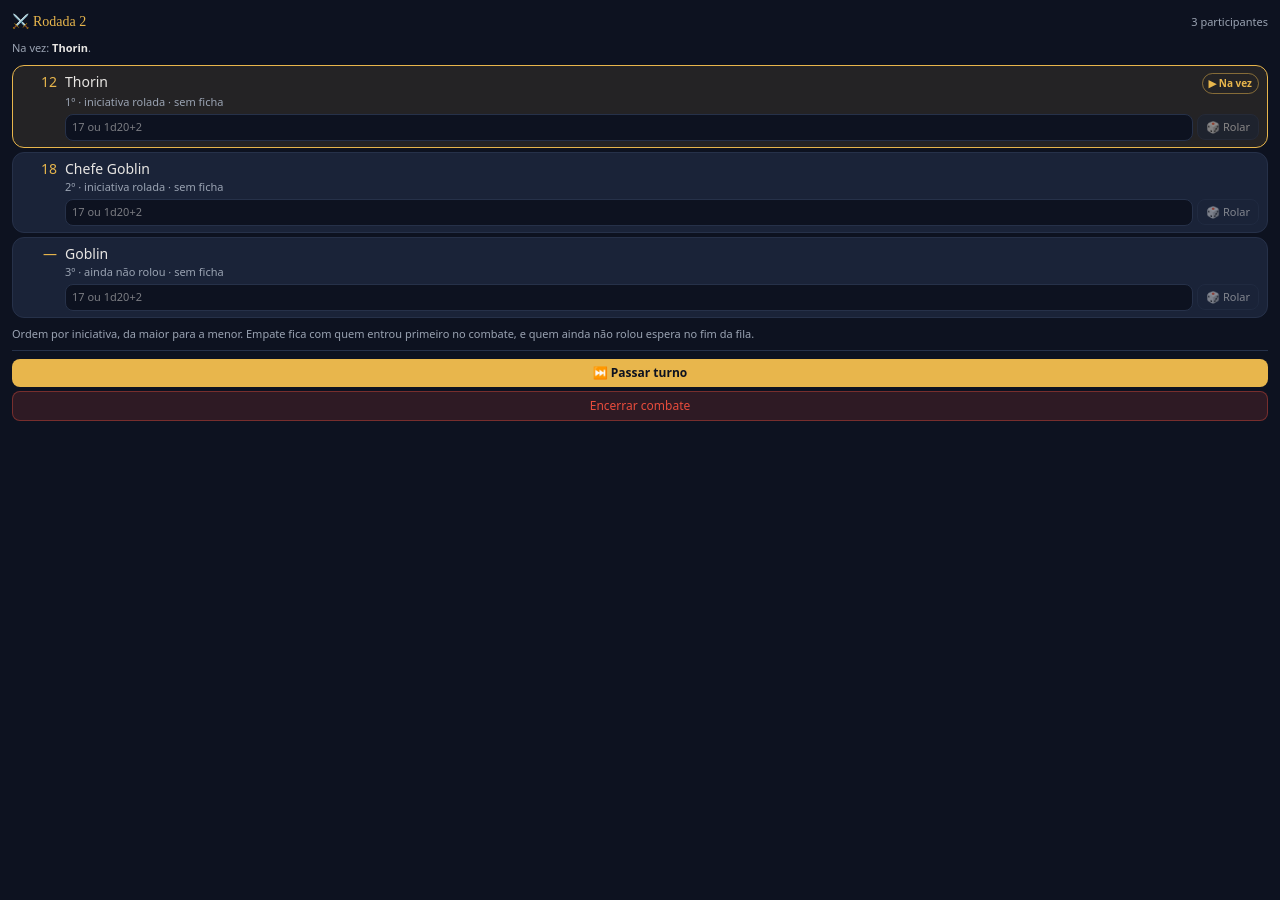
Test case: PainelIniciativa — turno e encerramento são do mestre › cancelar a confirmação não encerra nada
This screenshot has width=1280, height=900.
Click the button "Encerrar combate". click: (640, 406)
box: [12,391,1268,421]
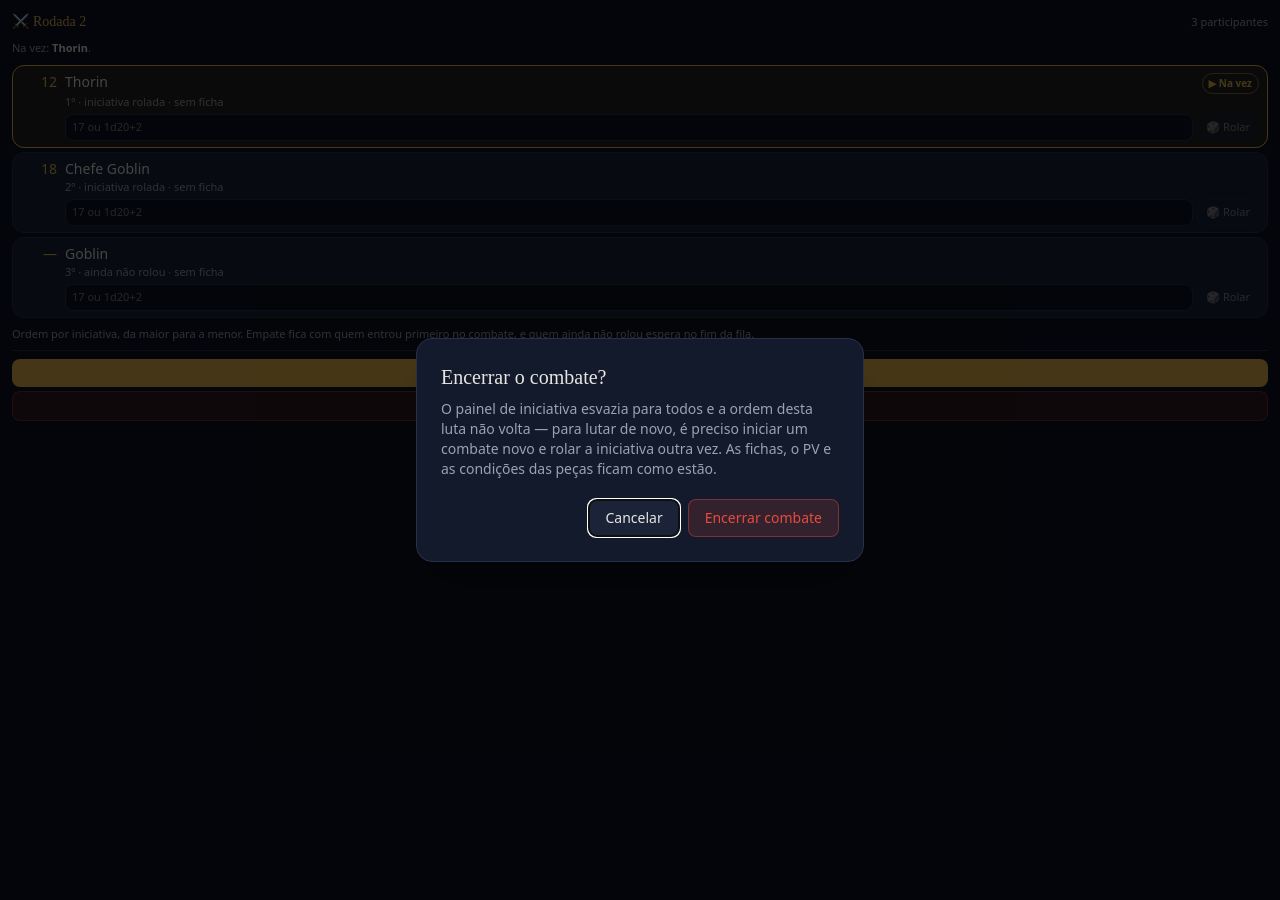
Click the button "Cancelar". click: (634, 518)
box: [588,499,680,537]
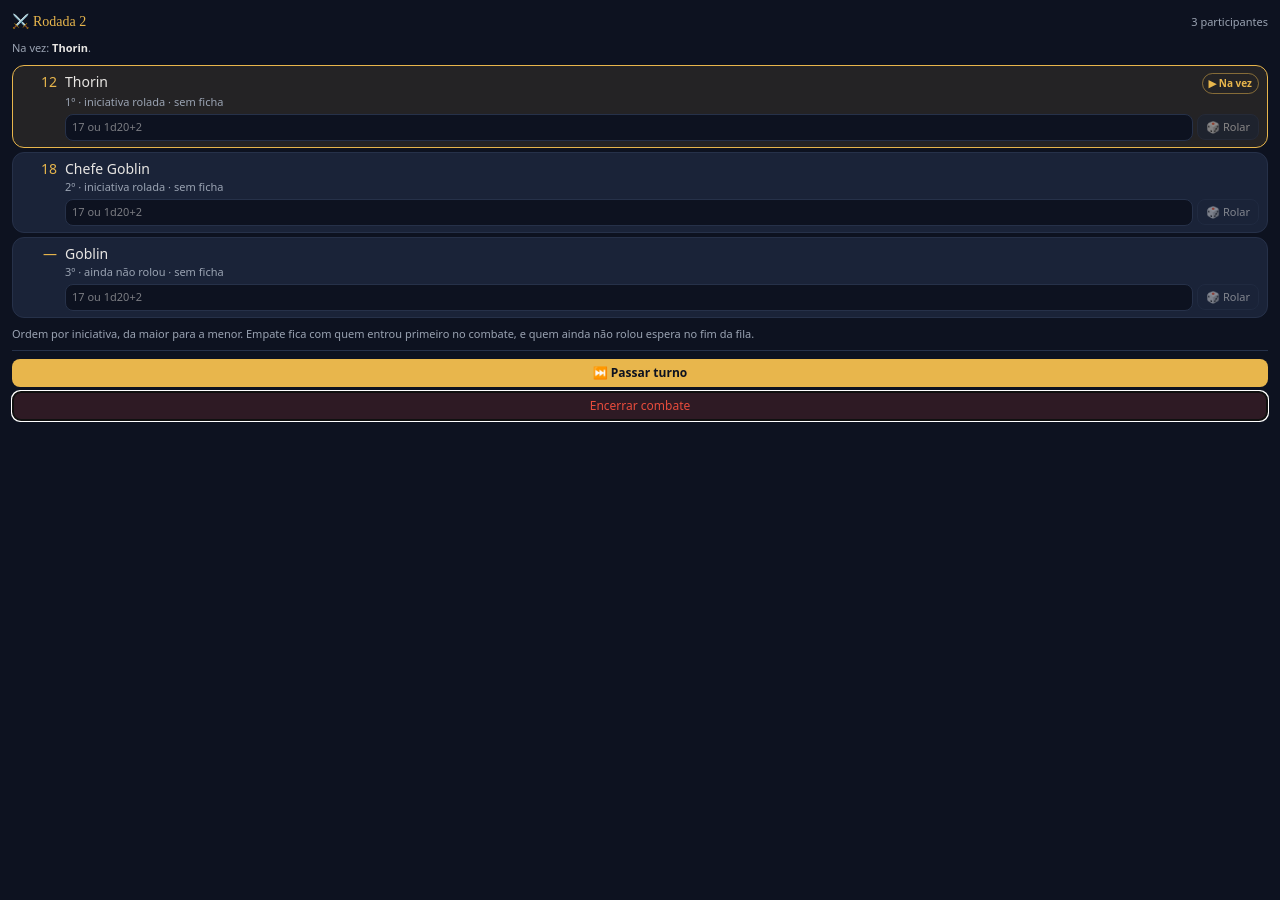
Now the dialog is gone
